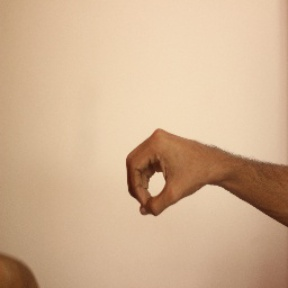O: (121, 123, 217, 217)
